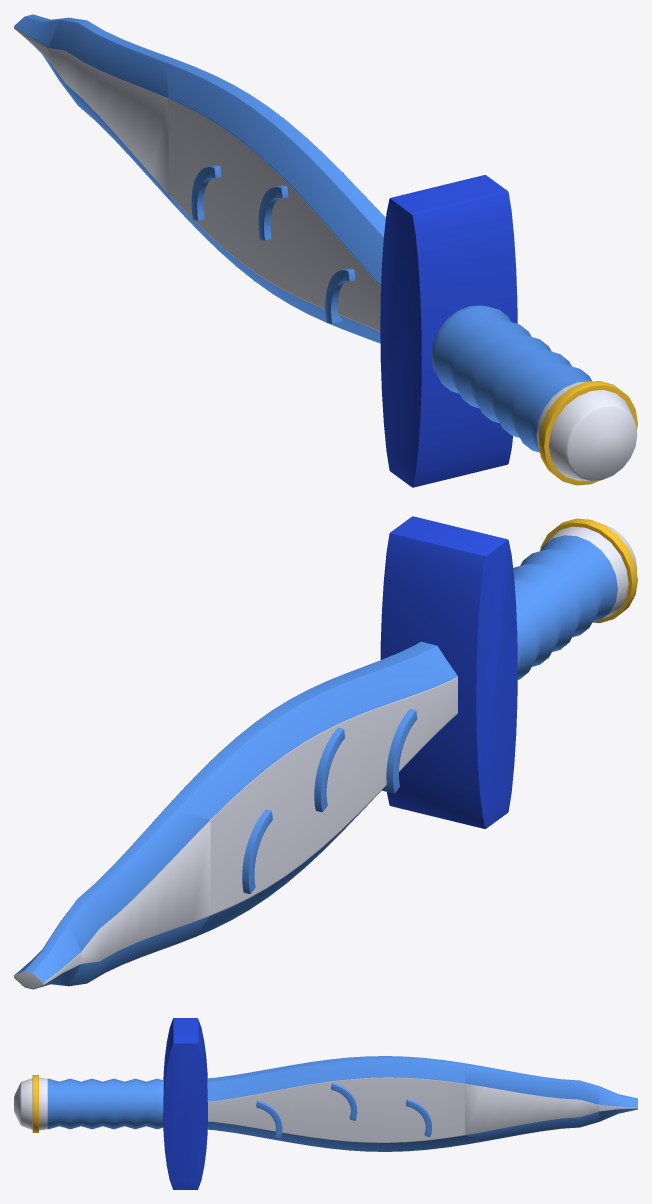
The model's file is Sword_GustcutterGladius.glb.
3 renders of one model, top to bottom at view 1: azimuth 30°, elevation 25°; view 2: azimuth 150°, elevation 25°; view 3: azimuth 270°, elevation 25°, orthographic. The views are drawn at different scales.
Visible parts, largest first — view 1: Sword_GustcutterGladius; view 2: Sword_GustcutterGladius; view 3: Sword_GustcutterGladius.
Part boxes in pixels (left/top/right/bottom): Sword_GustcutterGladius: left=14, top=14, right=637, bottom=487; Sword_GustcutterGladius: left=14, top=516, right=637, bottom=989; Sword_GustcutterGladius: left=14, top=1018, right=637, bottom=1189.
Size of the model in its own units: 0.096 by 0.26 by 1.
Materials: 1 (1 with a texture image).
